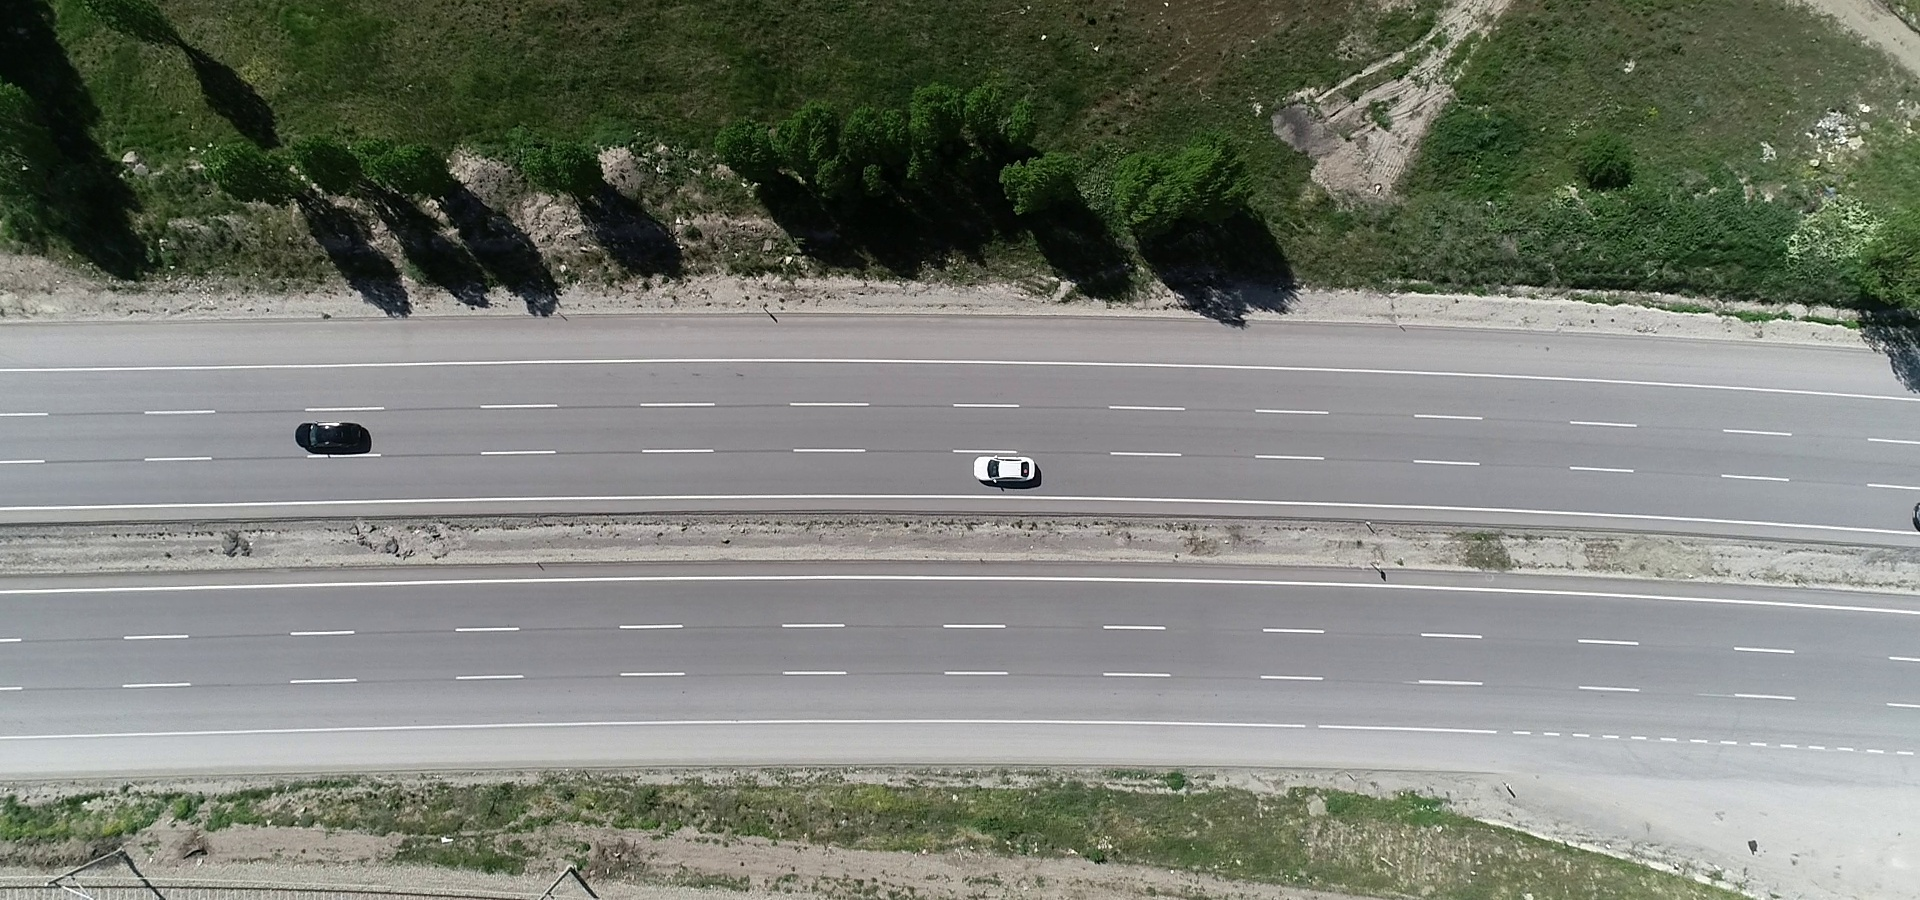arac: (291, 411, 383, 462), (966, 451, 1056, 490)
